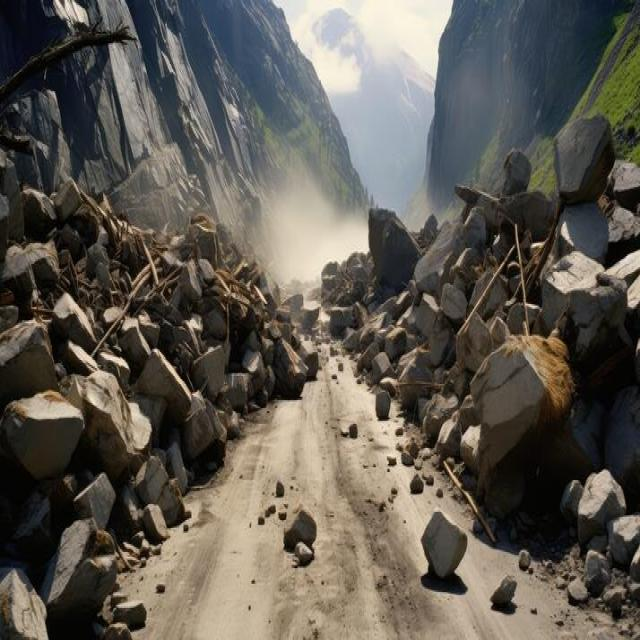road collapse: (16, 155, 640, 640)
